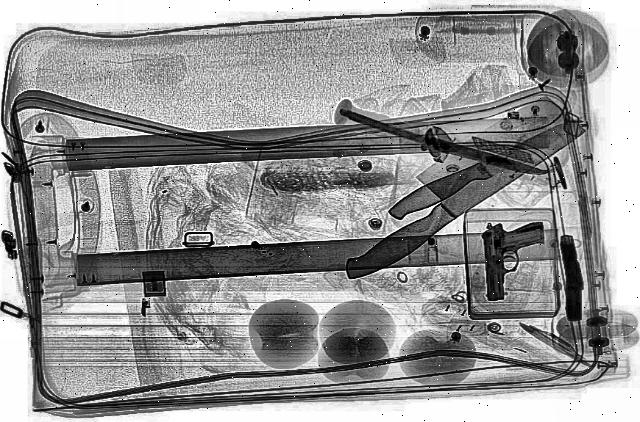Gun: (482, 222, 550, 300), (558, 234, 590, 322)
Knife: (304, 89, 602, 287), (382, 108, 594, 224), (333, 107, 557, 179)
